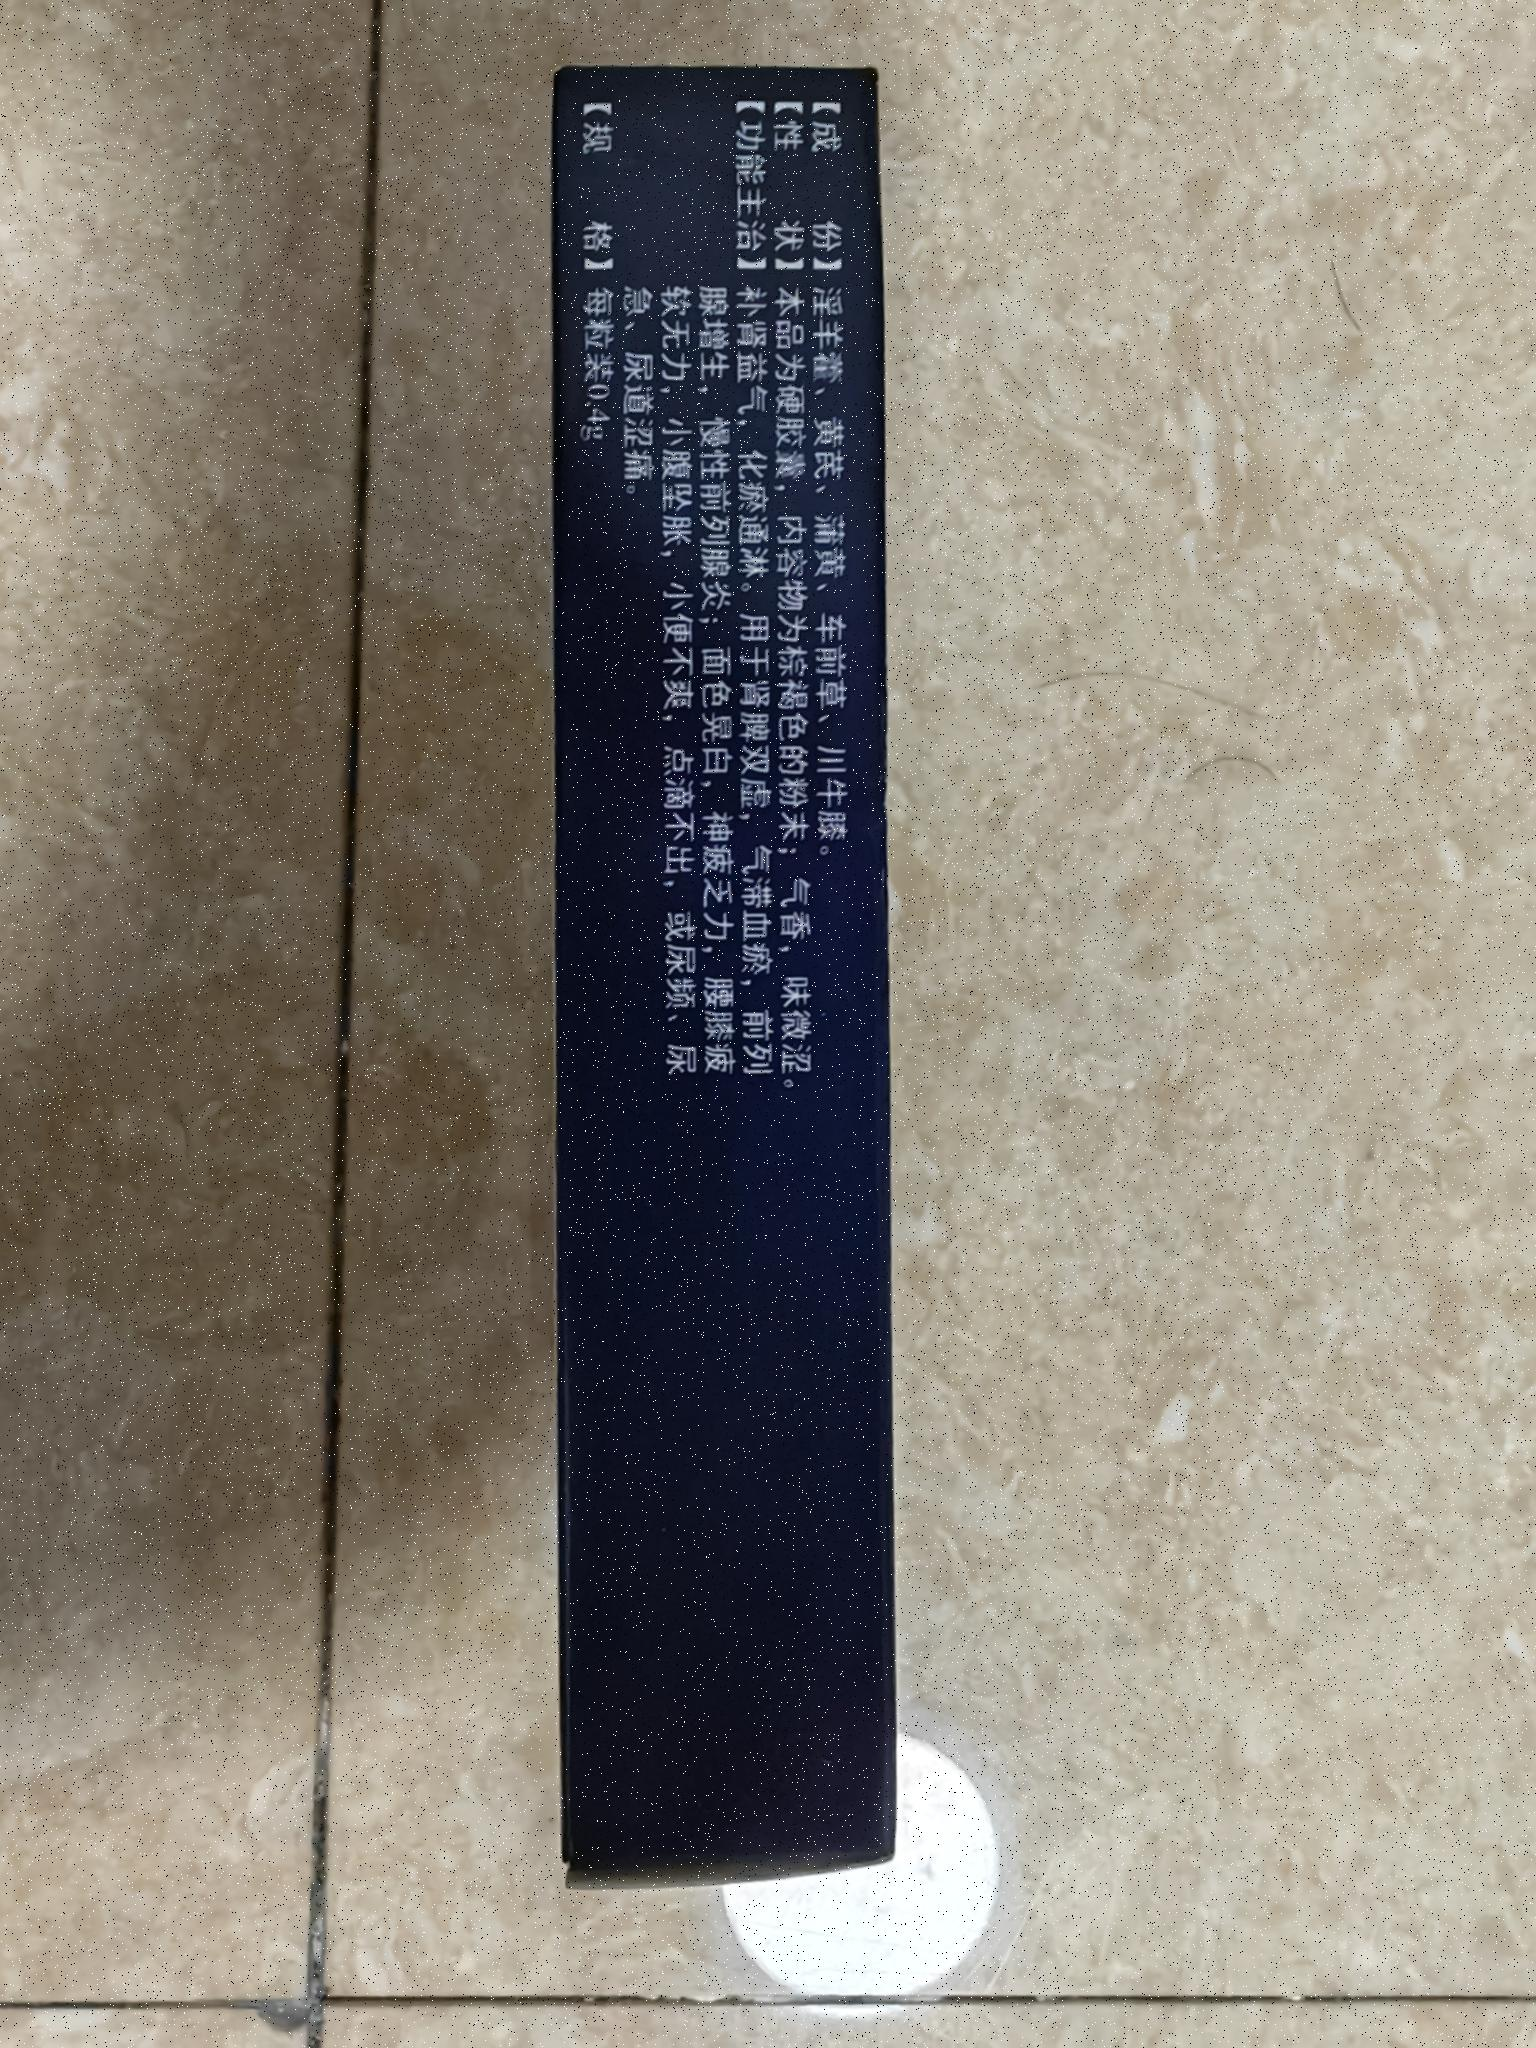Medicine2: (528, 45, 925, 1903)
